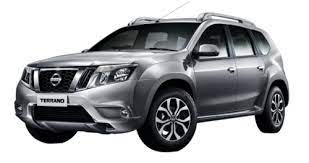Nissan: (9, 13, 290, 150)
